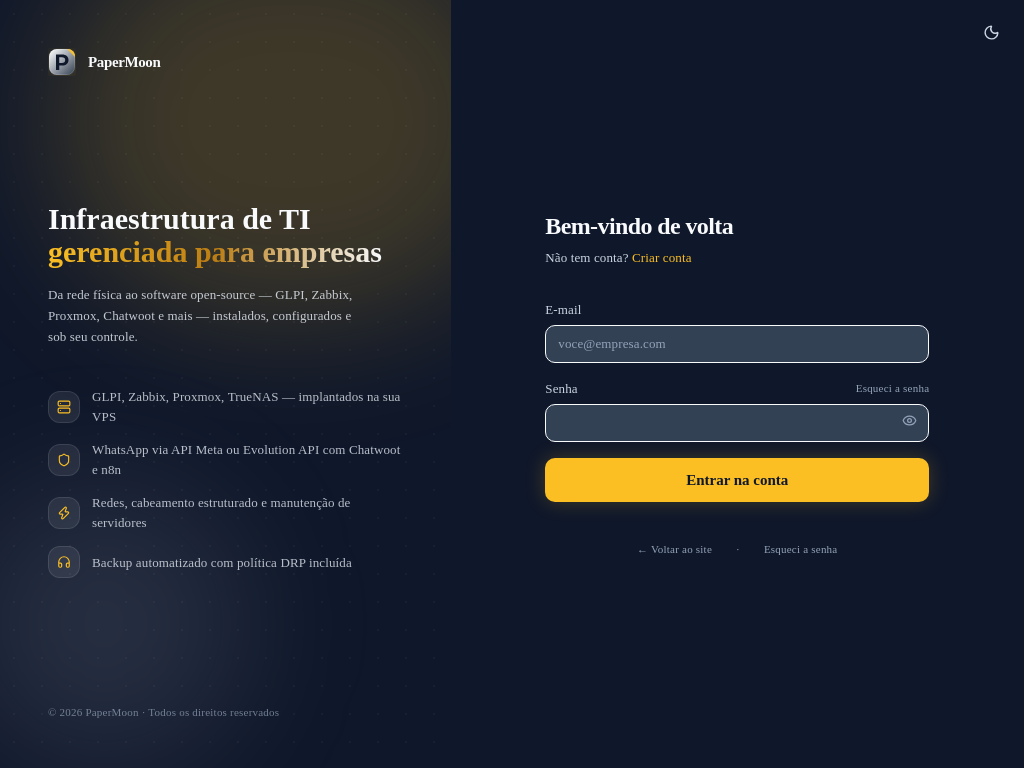
Scenario: LoginPage › shows error message on failed login
This screenshot has width=1024, height=768.
Type "bad@user.com" into the field with placeholder "voce@empresa.com".
click(737, 344); type("bad@user.com")  # box x1=545 y1=325 x2=929 y2=363
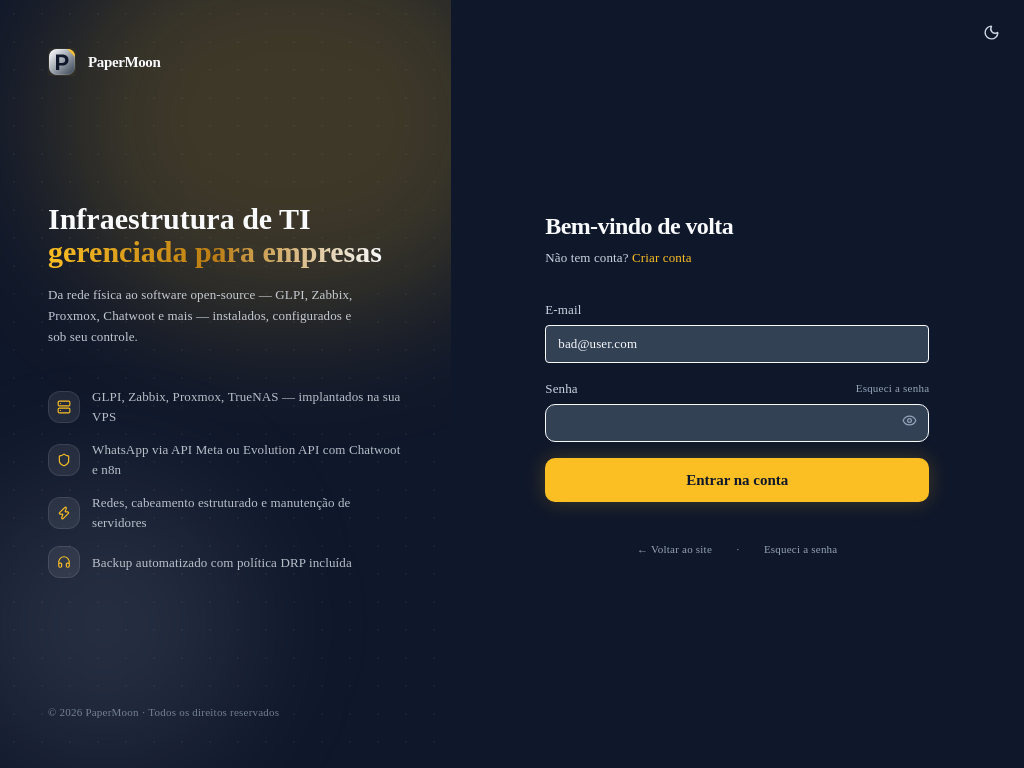
Type "wrongpass" into the password field labelled "Senha".
click(737, 423); type("wrongpass")  # box x1=545 y1=404 x2=929 y2=442
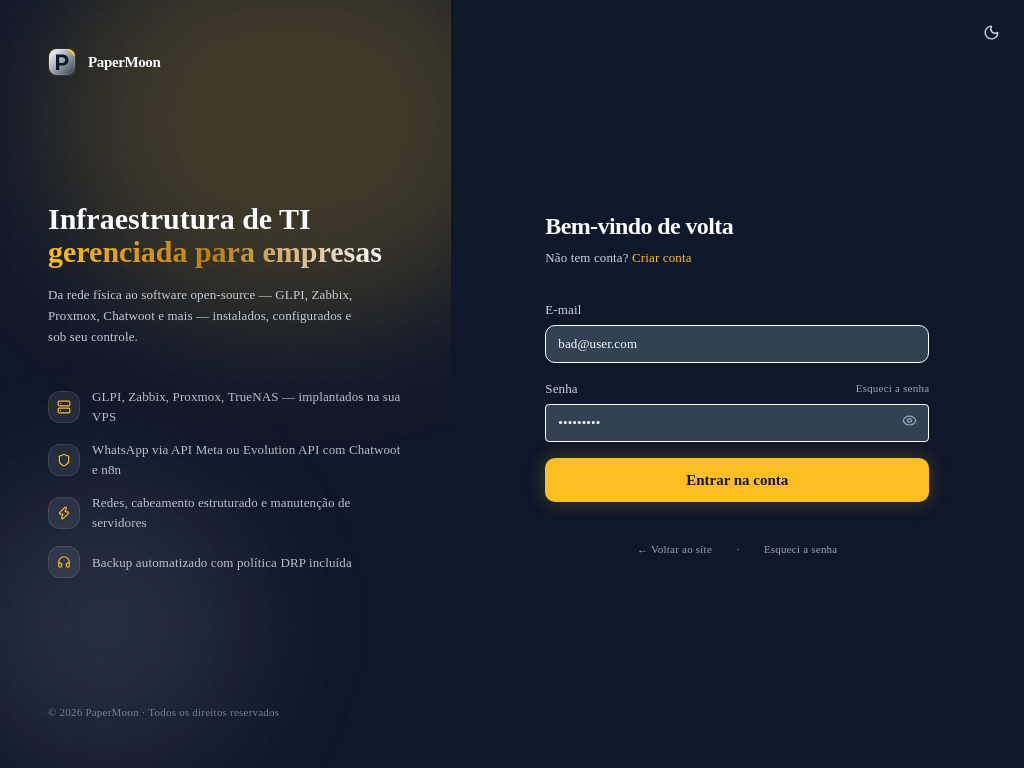
Click the button "Entrar na conta".
click(737, 480)  # box x1=545 y1=458 x2=929 y2=502
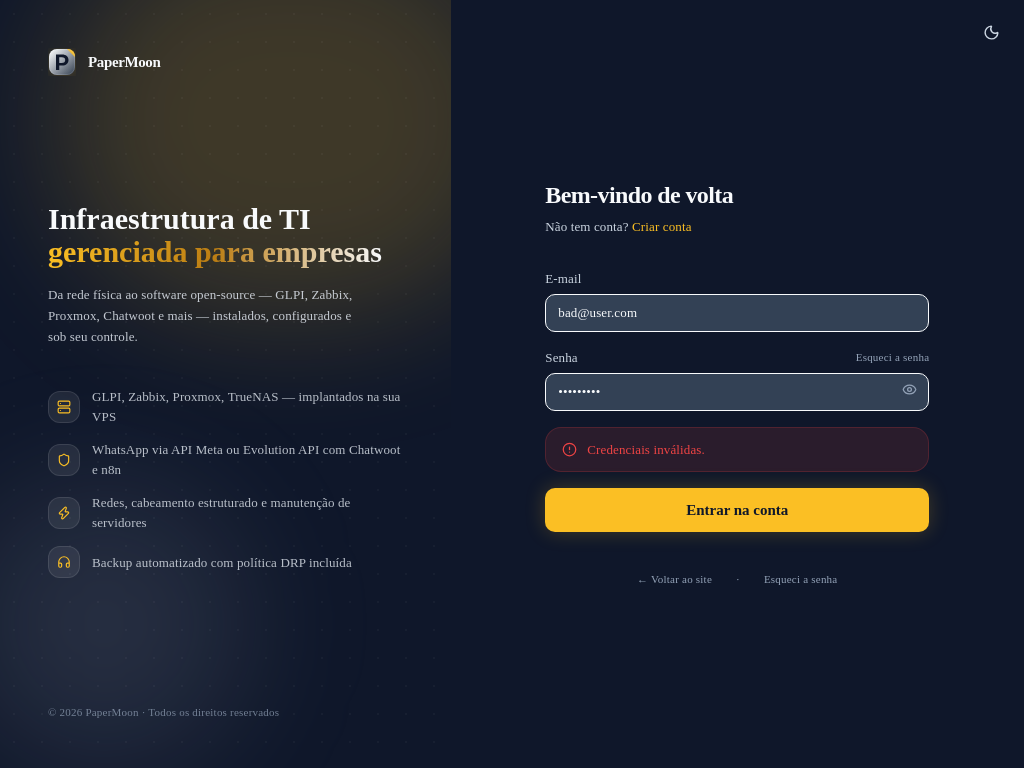
Now the text "Credenciais inválidas." is shown, box x1=587 y1=440 x2=705 y2=459
